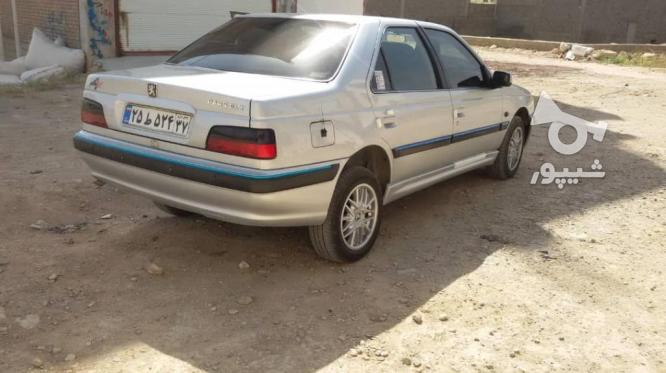car: (124, 99, 188, 131)
